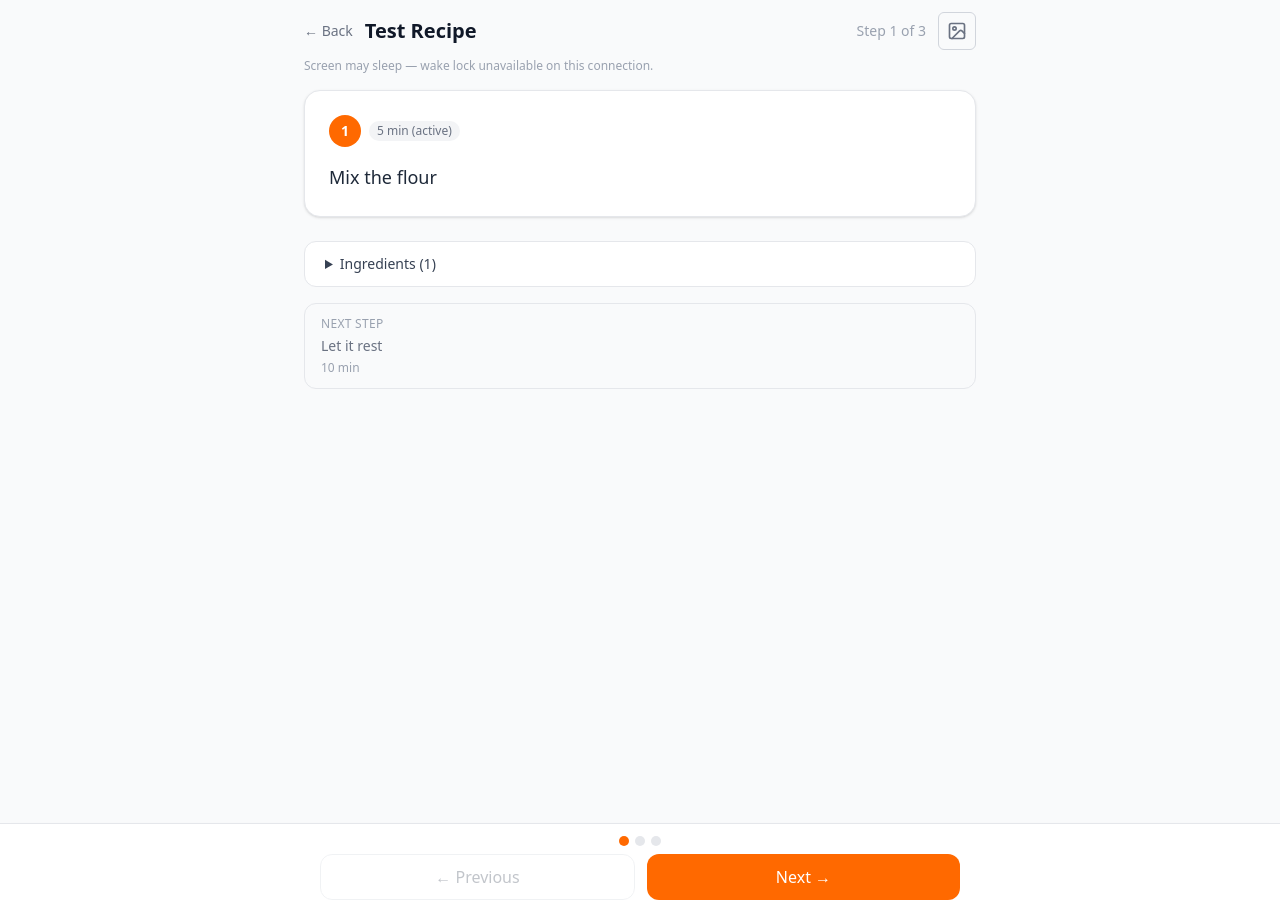
Test: CookModePage › can dismiss a timer from the running panel
Check: the text "Mix the flour" is shown, box [329,165,437,189]
Navigate to step 2, start timer, go to step 3
Click the button "Next →" at {"x": 804, "y": 877}, box [647,854,960,900]
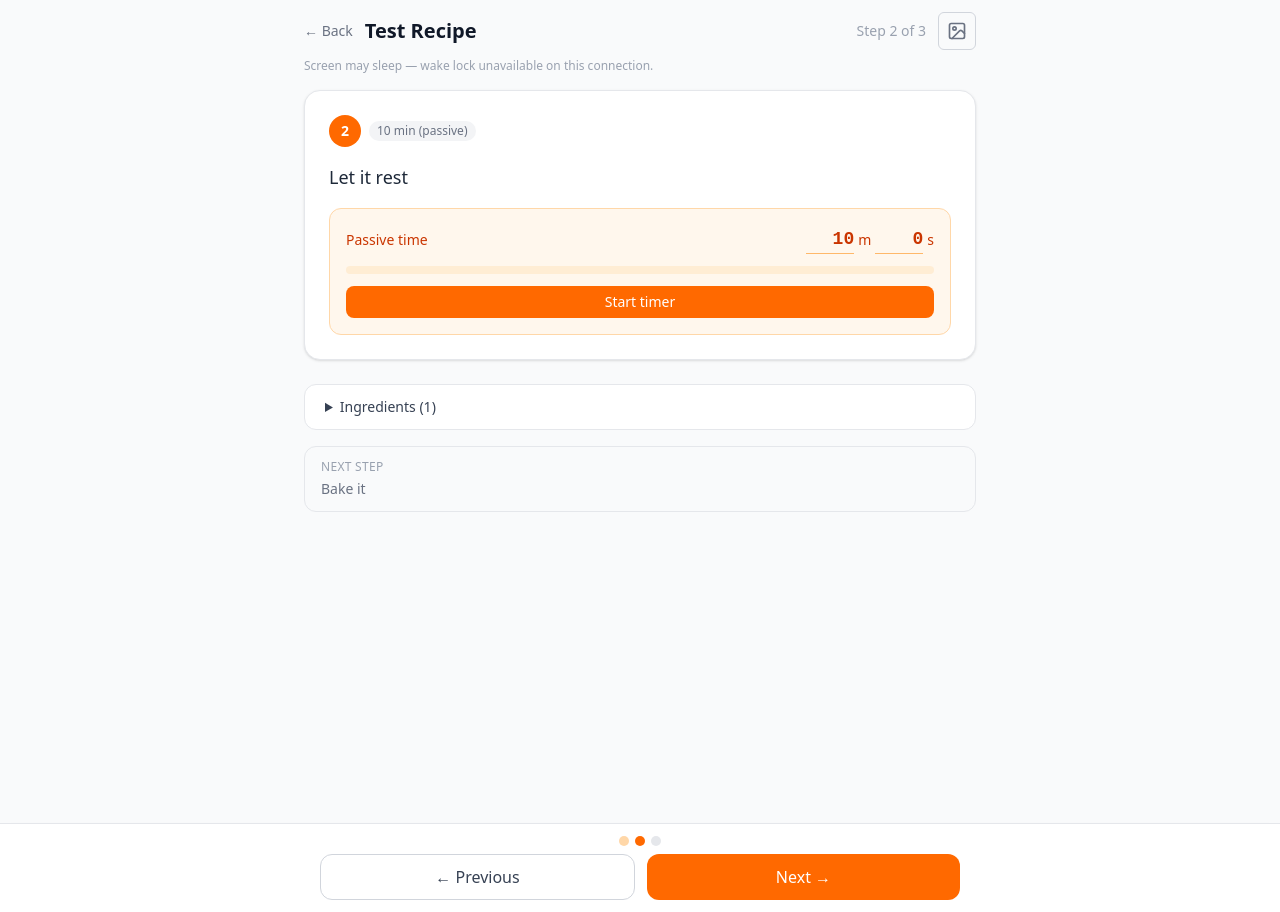
Click the button "Start timer" at {"x": 640, "y": 302}, box [346,286,934,318]
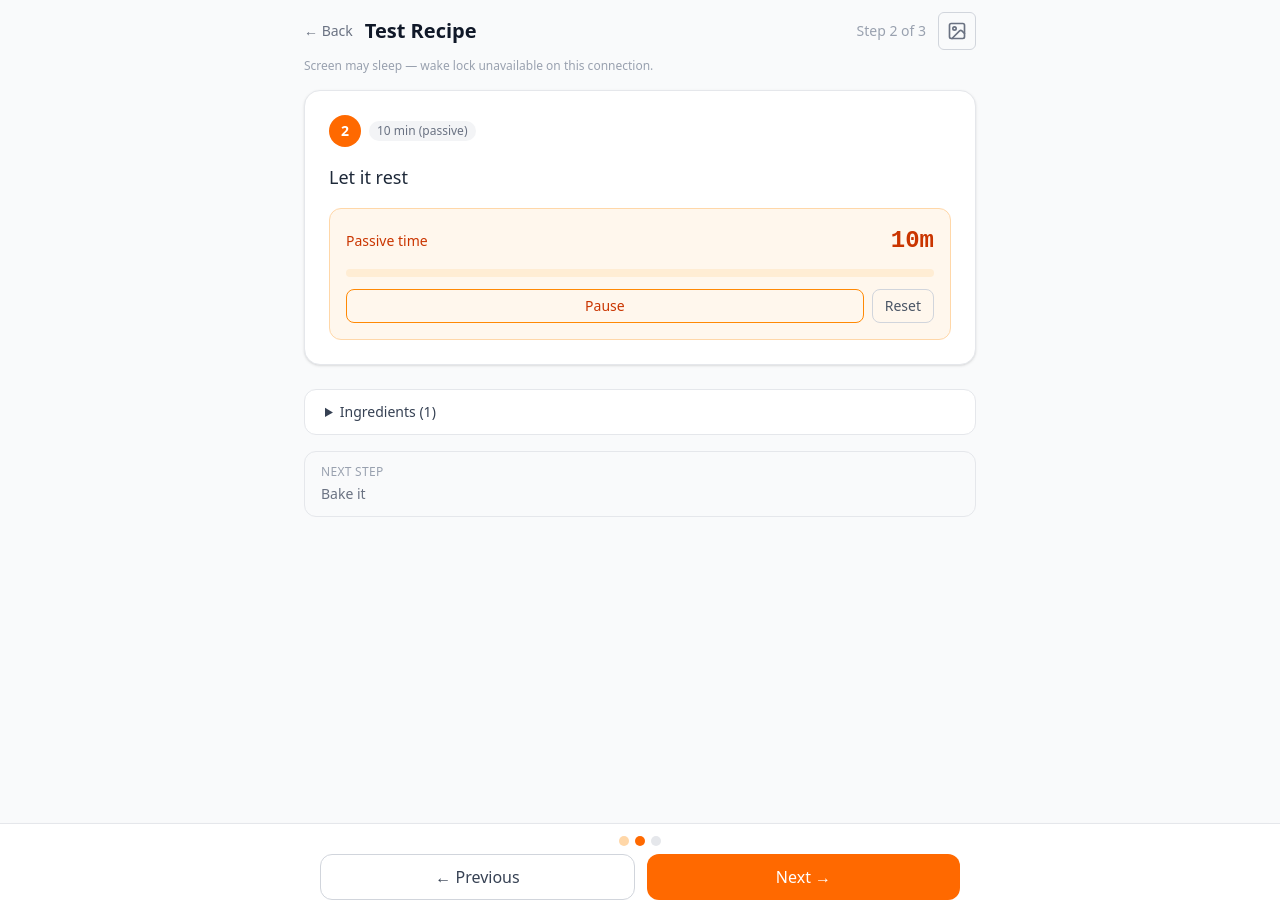
Click the button "Next →" at {"x": 804, "y": 877}, box [647,854,960,900]
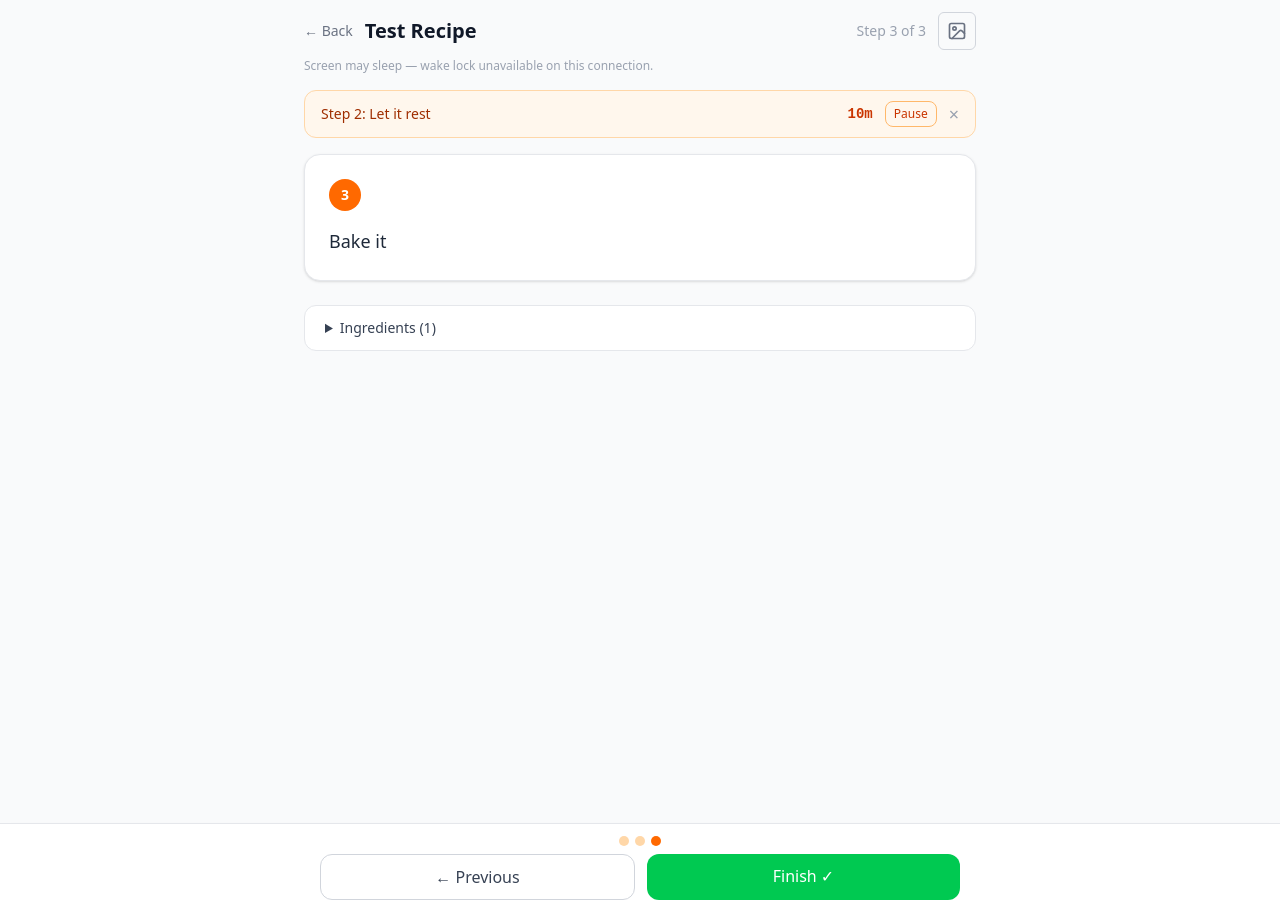
Check: the text "Step 2: Let it rest" is shown, box [321,104,431,123]
Dismiss it
Click the button named "dismiss timer" at {"x": 954, "y": 114}, box [949,105,959,123]
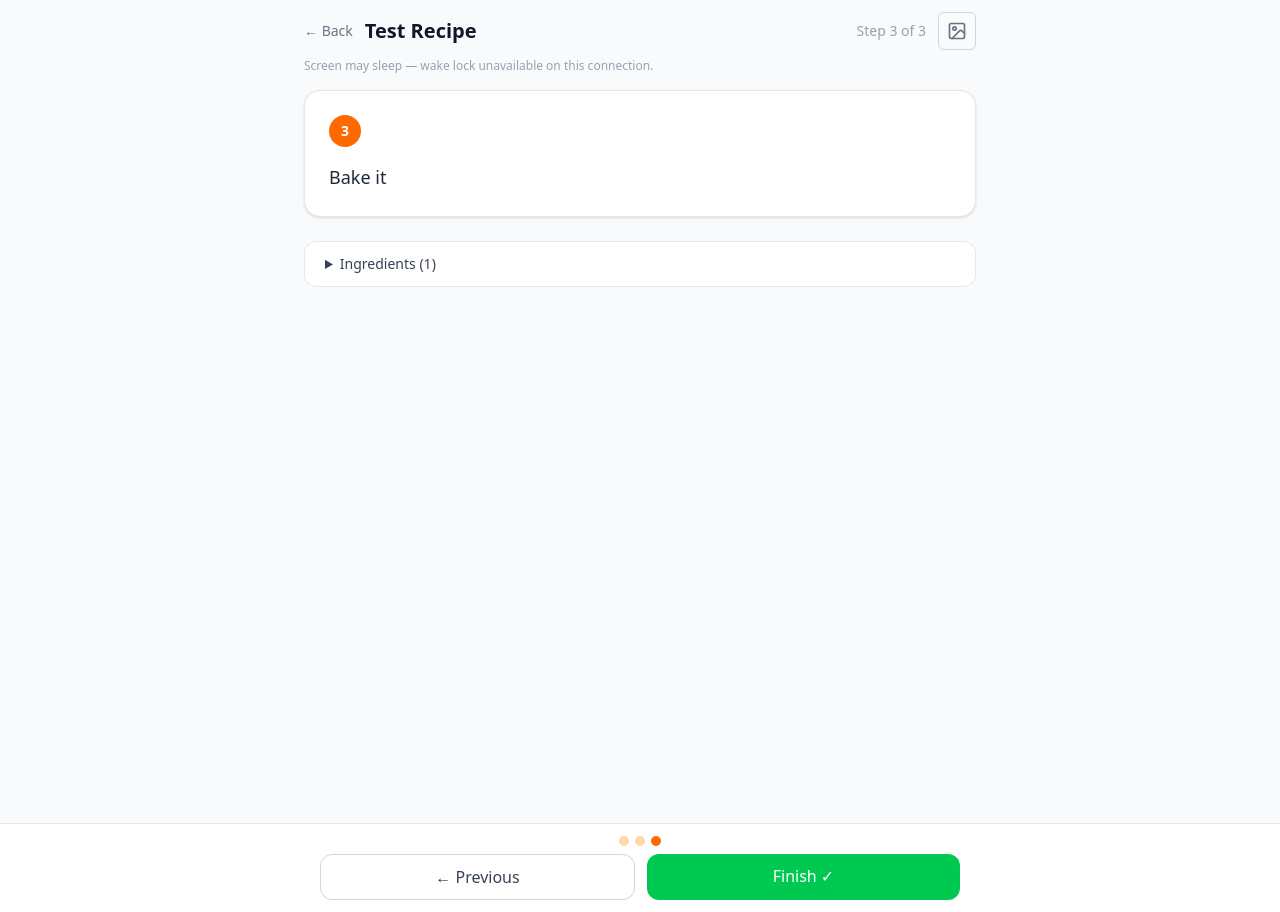
Check: the text "Step 2: Let it rest" is gone
